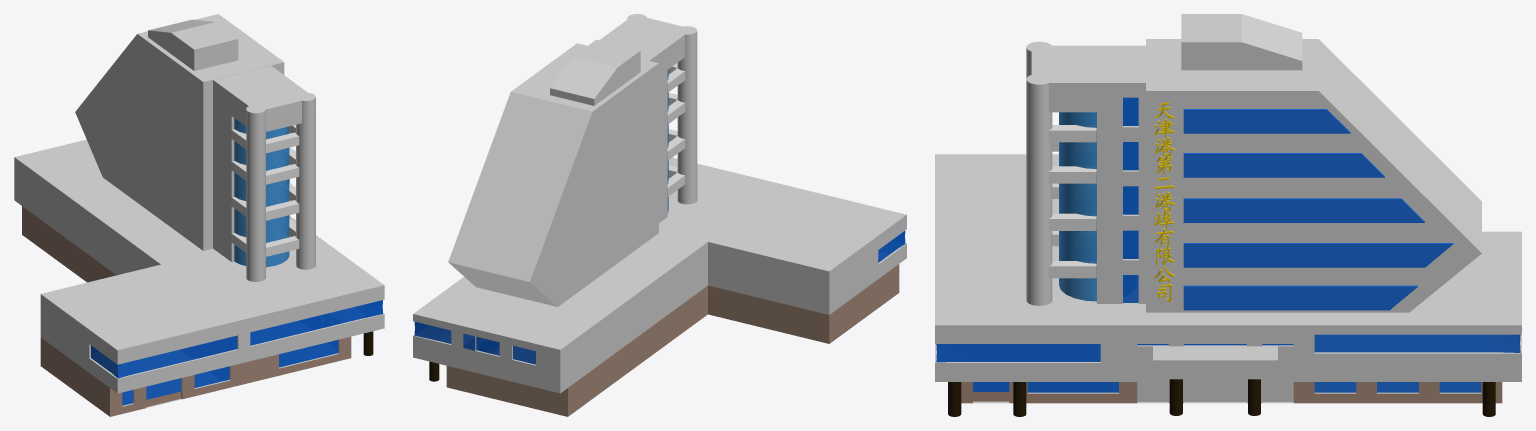
File: tjg2gs.fbx
3 renders of one model, left to right at view 1: azimuth 30°, elevation 25°; view 2: azimuth 150°, elevation 25°; view 3: azimuth 270°, elevation 25°, orthographic. The views are drawn at different scales.
Parts seen in each view (by area): view 1: pCube6, pPrism1, pCube1, pCube4, pCube5, pCube2, pCylinder8, pCylinder7, pPrism2, pCylinder6, pCube15, pCube17 (+2 smaller); view 2: pPrism1, pCube4, pCube6, pCube2, pCube1, pCube5, pPrism2, pCylinder8; view 3: pPrism1, pCube1, pCube4, pCube5, pCube2, pCube6, pCube22, pPrism2, pCylinder7, pCube21, pCube23, pCube20 (+7 smaller).
Boxes of the visible parts, left/top/right/bottom form: pCube6: left=40, top=264, right=238, bottom=416; pPrism1: left=75, top=14, right=284, bottom=250; pCube1: left=161, top=235, right=384, bottom=387; pCube4: left=14, top=139, right=146, bottom=282; pCube5: left=213, top=66, right=307, bottom=261; pCube2: left=101, top=210, right=295, bottom=278; pCylinder8: left=246, top=105, right=265, bottom=281; pCylinder7: left=296, top=92, right=315, bottom=269; pPrism2: left=148, top=19, right=238, bottom=70; pCylinder6: left=234, top=118, right=289, bottom=267; pCube15: left=266, top=132, right=299, bottom=153; pCube17: left=266, top=200, right=299, bottom=220; pPrism1: left=448, top=43, right=658, bottom=306; pCube4: left=413, top=274, right=647, bottom=416; pCube6: left=708, top=185, right=906, bottom=343; pCube2: left=602, top=230, right=707, bottom=357; pCube1: left=659, top=157, right=785, bottom=241; pCube5: left=599, top=18, right=684, bottom=222; pPrism2: left=550, top=39, right=640, bottom=105; pCylinder8: left=677, top=26, right=697, bottom=204; pPrism1: left=1146, top=39, right=1481, bottom=312; pCube1: left=935, top=231, right=1137, bottom=403; pCube4: left=1293, top=231, right=1521, bottom=403; pCube5: left=1031, top=45, right=1145, bottom=303; pCube2: left=1137, top=303, right=1293, bottom=403; pCube6: left=935, top=154, right=1058, bottom=231; pCube22: left=1183, top=243, right=1453, bottom=267; pPrism2: left=1181, top=14, right=1302, bottom=70; pCylinder7: left=1026, top=73, right=1052, bottom=305; pCube21: left=1183, top=198, right=1424, bottom=222; pCube23: left=1183, top=285, right=1417, bottom=310; pCube20: left=1183, top=153, right=1384, bottom=177.
Bounding box in the file's own units: 31 × 29.11 × 45.
